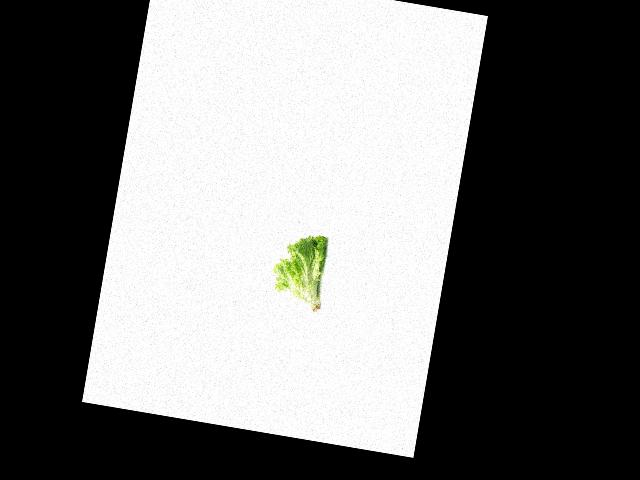lettuce: (266, 228, 333, 314)
